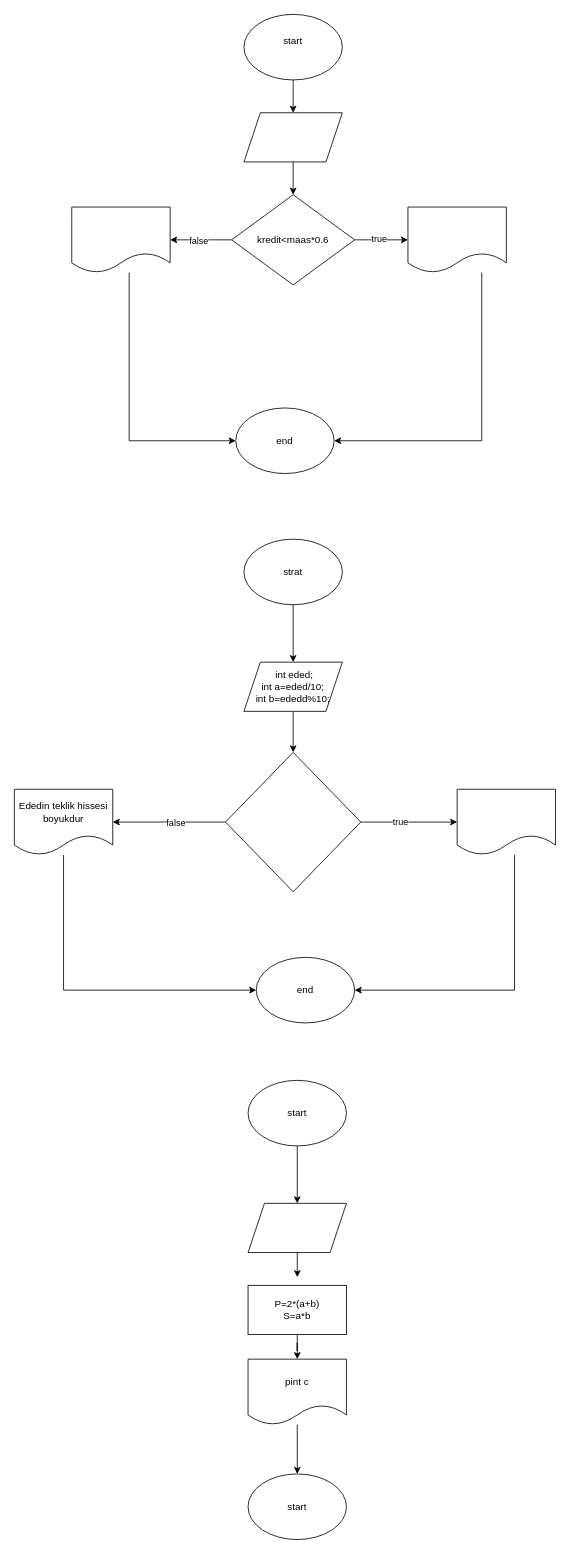
Some shapes in this 570 by 1554 pixel diagram are drawn without their labels. Each missing label, with the centre of its shape:
a>b: point (293, 822)
Ededi onluq hissesi boyukdur: point (506, 821)
int a; int b; int P; int S;: point (296, 1228)
int maas; int kredit;: point (292, 137)
Kredit goture bilersiniz!: point (120, 239)
Kredit goture bilmezsiniz!: point (456, 239)
